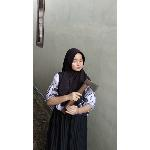Kapak: (62, 78, 100, 112)
